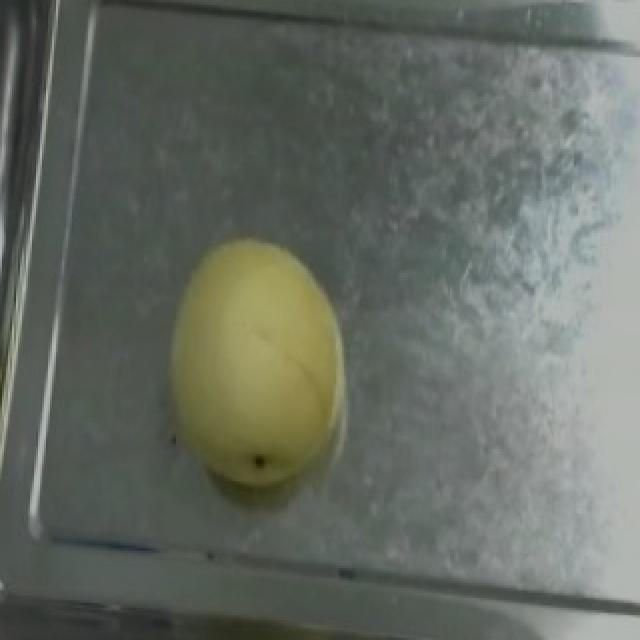Fruit: (150, 223, 364, 501)
